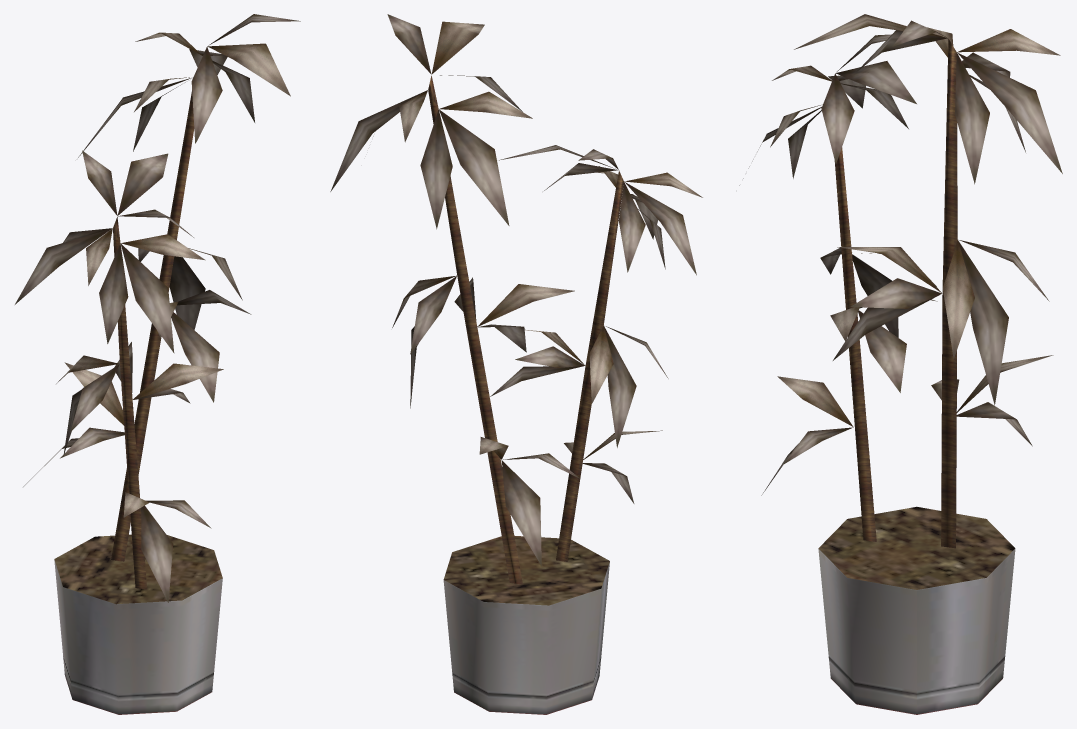
The model's file is tall_plant.fbx.
3 renders of one model, left to right at view 1: azimuth 30°, elevation 25°; view 2: azimuth 150°, elevation 25°; view 3: azimuth 270°, elevation 25°, orthographic. The views are drawn at different scales.
Parts seen in each view (by area): view 1: mesh_0; view 2: mesh_0; view 3: mesh_0.
Part boxes in pixels (bbox=[...]): mesh_0: bbox=[15, 14, 300, 714]; mesh_0: bbox=[330, 14, 702, 714]; mesh_0: bbox=[739, 14, 1062, 714].
Bounding box in the file's own units: 75.01 × 152 × 63.33.
1 material, 1 textured.
